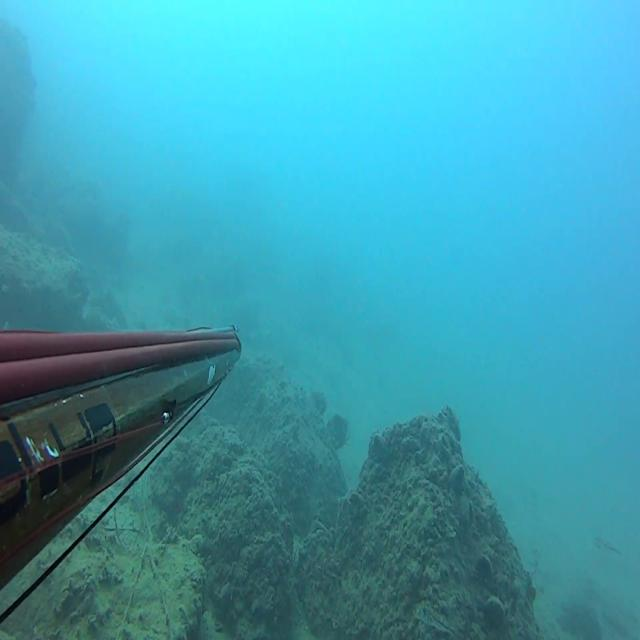Balon Baligi: (418, 604, 454, 634), (594, 534, 621, 555)
